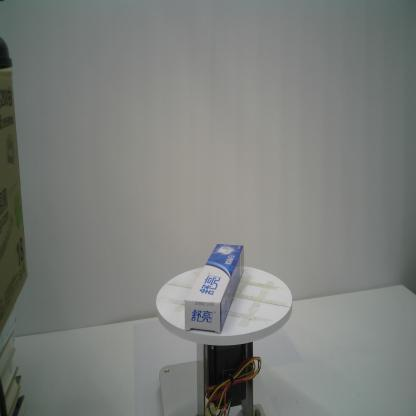Personal Hygiene: (184, 243, 245, 334)
